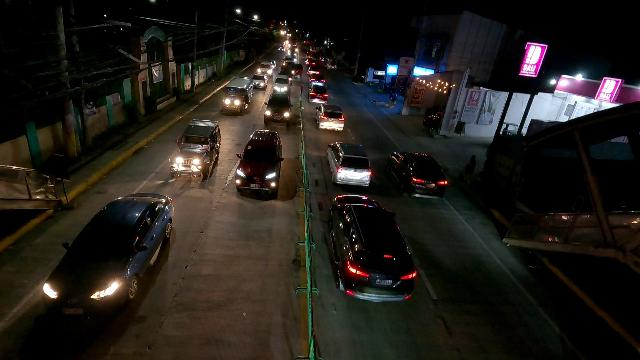car: (41, 191, 176, 315), (327, 194, 418, 303), (388, 151, 450, 203), (235, 129, 283, 194), (328, 140, 373, 190), (262, 93, 292, 126), (316, 103, 345, 133), (307, 84, 328, 105), (271, 75, 292, 95), (284, 62, 304, 80), (251, 73, 269, 91), (257, 60, 276, 77), (308, 73, 326, 90), (306, 57, 323, 72), (282, 56, 294, 68)
jeepney: (168, 119, 222, 179), (220, 76, 254, 116), (325, 58, 338, 71)
